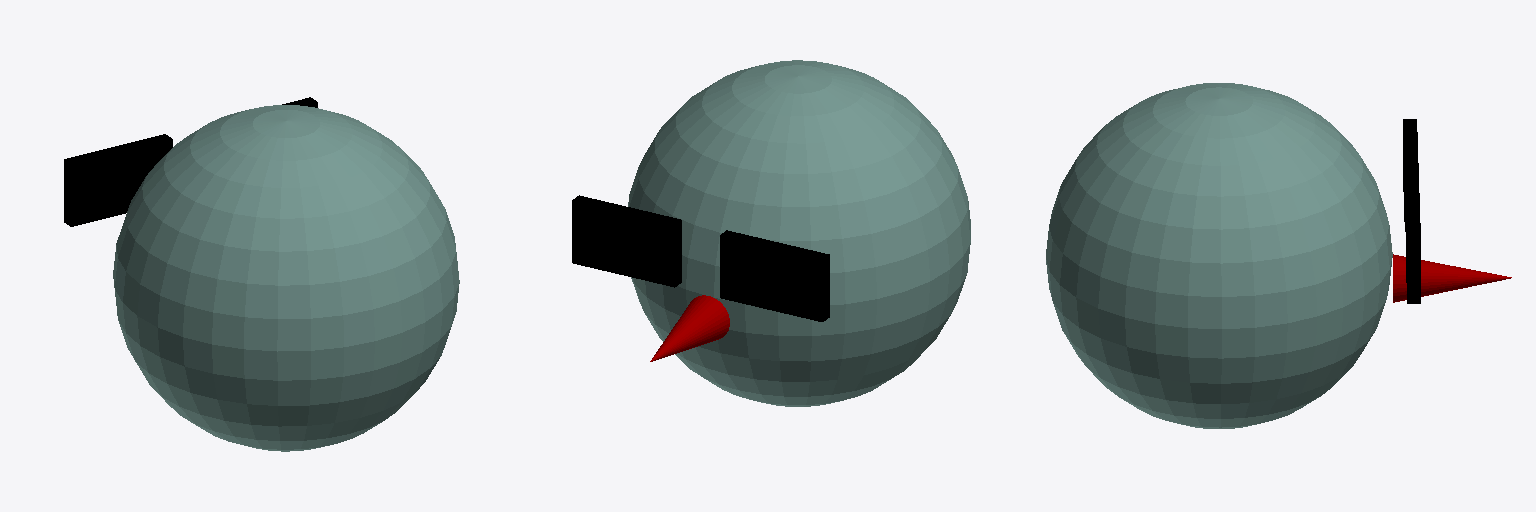
File: human002.obj
3 views of the same model, side by side, from view 1: azimuth 30°, elevation 25°; view 2: azimuth 150°, elevation 25°; view 3: azimuth 270°, elevation 25° (orthographic).
Visible parts, largest first — view 1: Sphere, Cube.001_Cube.002; view 2: Sphere, Cube_Cube.001, Cube.001_Cube.002, Cone; view 3: Sphere, Cone, Cube_Cube.001, Cube.001_Cube.002.
Boxes of the visible parts, x1=… form: Sphere: x1=113, y1=105, x2=459, y2=451; Cube.001_Cube.002: x1=64, y1=134, x2=172, y2=226; Sphere: x1=628, y1=60, x2=970, y2=406; Cube_Cube.001: x1=572, y1=195, x2=681, y2=287; Cube.001_Cube.002: x1=720, y1=230, x2=829, y2=321; Cone: x1=650, y1=295, x2=729, y2=361; Sphere: x1=1046, y1=83, x2=1392, y2=428; Cone: x1=1393, y1=254, x2=1511, y2=302; Cube_Cube.001: x1=1406, y1=191, x2=1420, y2=303; Cube.001_Cube.002: x1=1403, y1=119, x2=1418, y2=231.
Size of the model in its own units: 2 by 2 by 2.7.